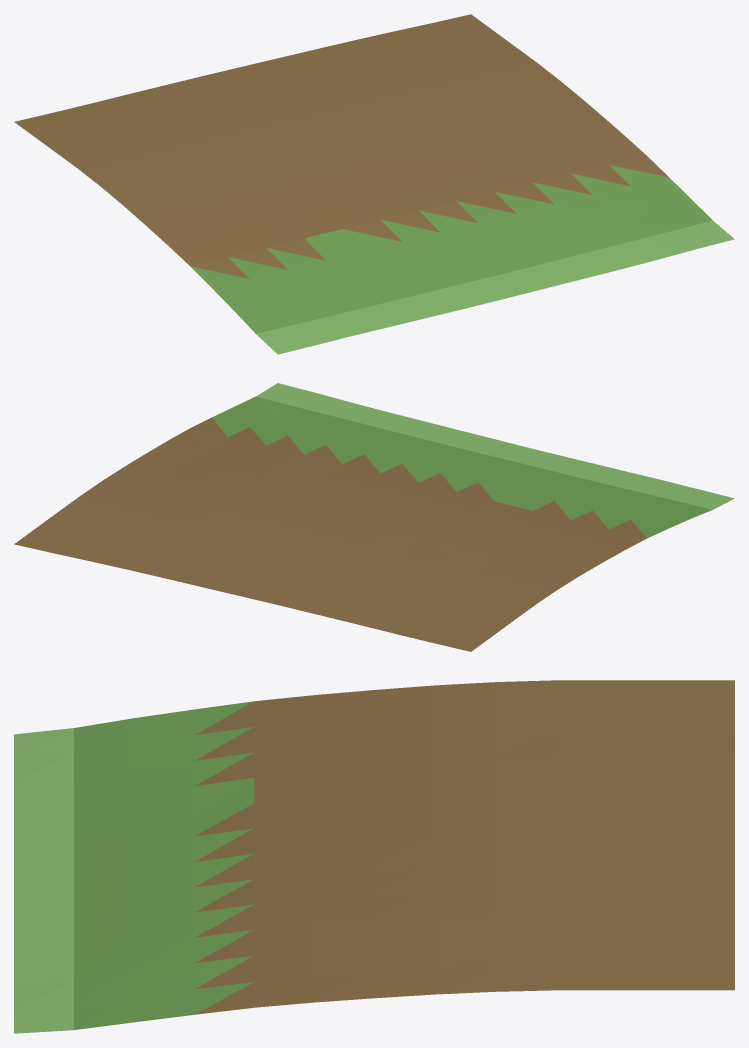
Rendered from chunk_2_-1.obj.
3 renders of one model, top to bottom at view 1: azimuth 30°, elevation 25°; view 2: azimuth 150°, elevation 25°; view 3: azimuth 270°, elevation 25°, orthographic. The views are drawn at different scales.
Visible parts, largest first — view 1: dirt, grass_a, grass_b; view 2: dirt, grass_a, grass_b; view 3: dirt, grass_a, grass_b.
Boxes of the visible parts, x1=… form: dirt: x1=14, y1=14, x2=668, y2=278; grass_a: x1=190, y1=165, x2=712, y2=333; grass_b: x1=256, y1=220, x2=734, y2=354; dirt: x1=14, y1=417, x2=646, y2=651; grass_a: x1=212, y1=396, x2=712, y2=538; grass_b: x1=256, y1=383, x2=734, y2=509; dirt: x1=195, y1=680, x2=734, y2=1014; grass_a: x1=74, y1=701, x2=254, y2=1029; grass_b: x1=14, y1=728, x2=73, y2=1033.
Size of the model in its own units: 16 by 1.33 by 16.
